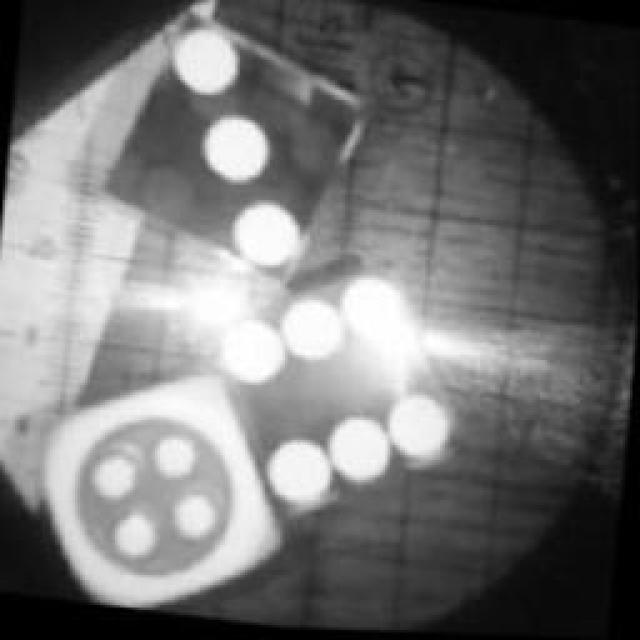dice_3: (90, 0, 385, 302)
dice_4: (24, 348, 308, 630)
dice_6: (188, 246, 498, 552)
